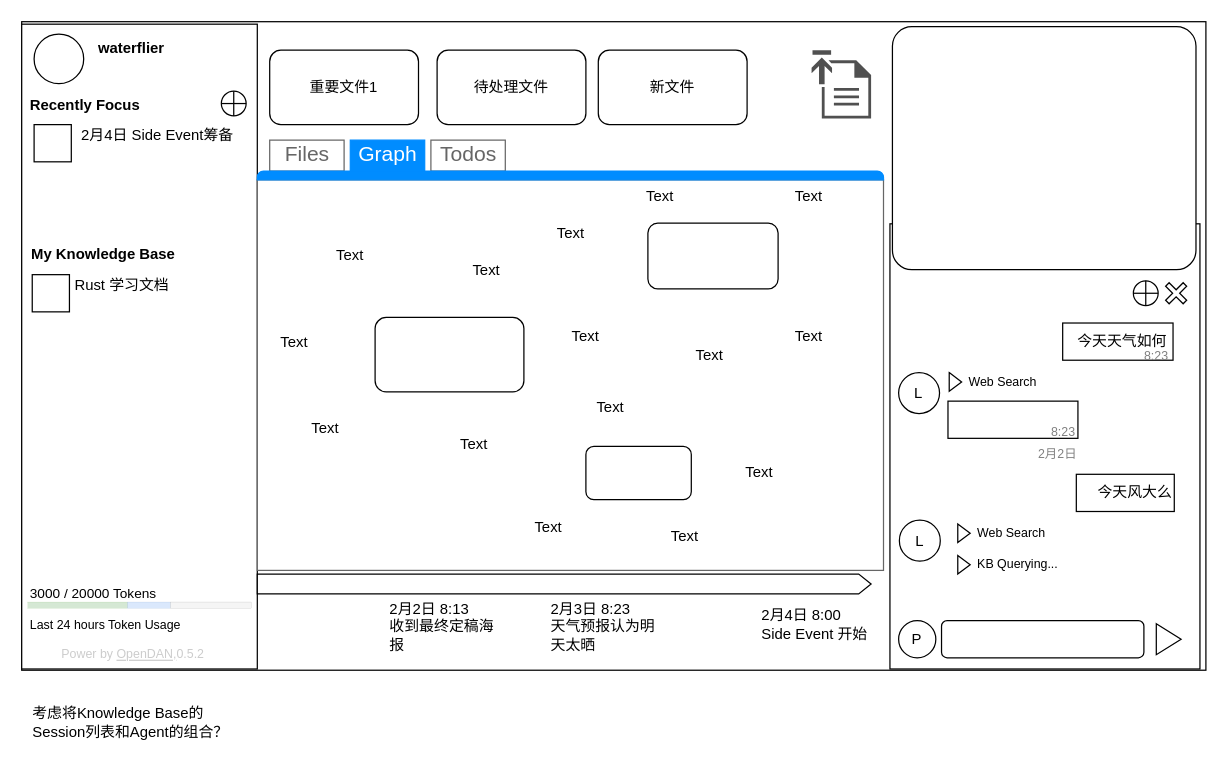
Image size: 1228x763. Some labels were removed from this diagram. The shapes that lost their labels are listed below. From the top down, each one's box as (x1, y1, x2, y2) in pixels, then its label:
(33, 33, 84, 84): FAC
(891, 25, 1196, 270): Preview of select "object"
(947, 400, 1078, 438): 晴天多云，24度
(940, 619, 1144, 658): Input Message
